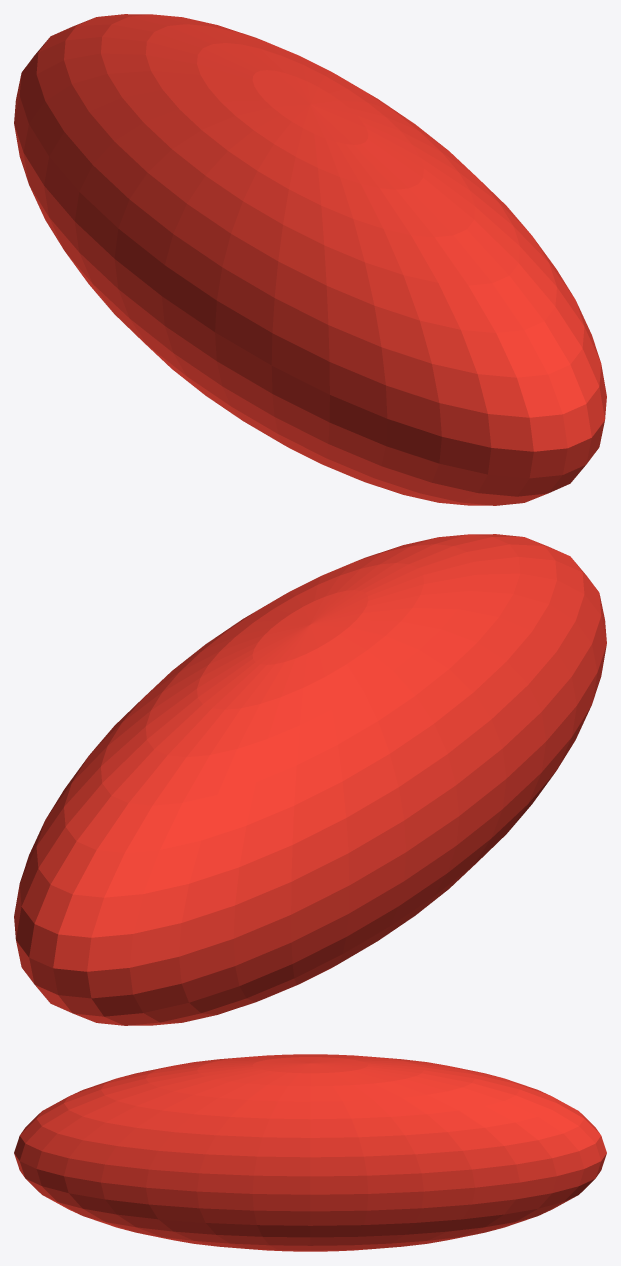
The model's file is bullet.obj.
3 views of the same model, one above another, from view 1: azimuth 30°, elevation 25°; view 2: azimuth 150°, elevation 25°; view 3: azimuth 270°, elevation 25° (orthographic). The views are drawn at different scales.
Visible parts, largest first — view 1: Sphere; view 2: Sphere; view 3: Sphere.
Boxes of the visible parts, x1,y1,x2,y2 form: Sphere: (14, 14, 606, 505); Sphere: (14, 534, 606, 1025); Sphere: (14, 1054, 606, 1251).
Bounding box in the file's own units: 0.2 × 0.2 × 0.6.
1 material, 1 textured.
